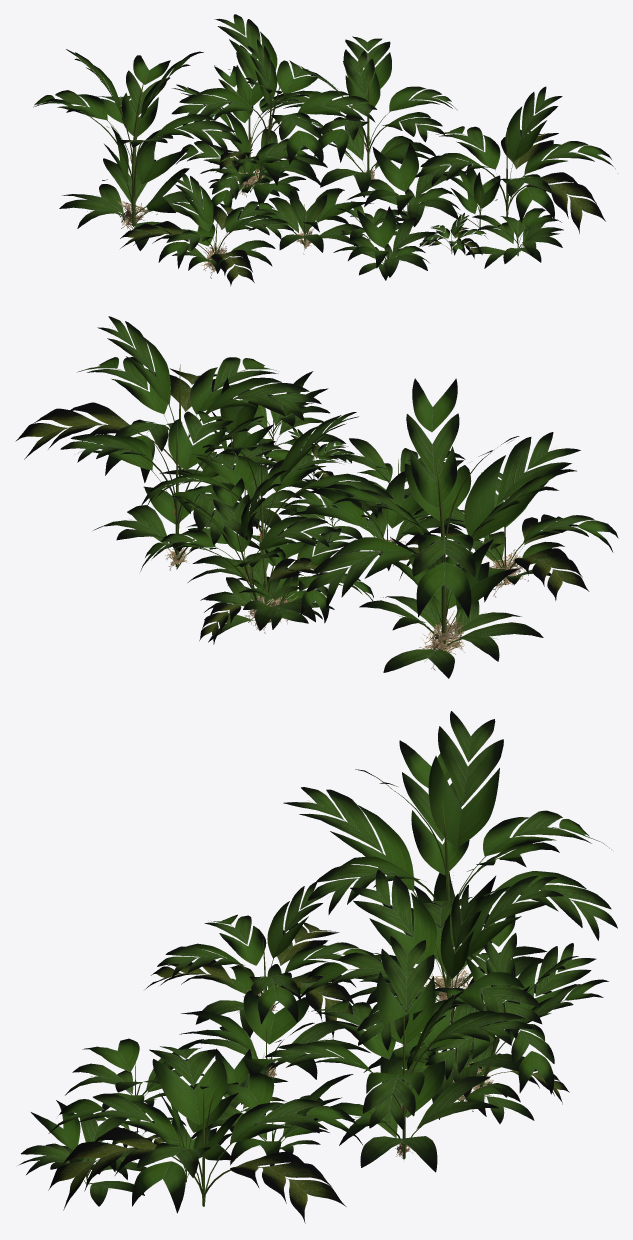
The model's file is grass.glb.
3 views of the same model, one above another, from view 1: azimuth 30°, elevation 25°; view 2: azimuth 150°, elevation 25°; view 3: azimuth 270°, elevation 25° (orthographic). The views are drawn at different scales.
Visible parts, largest first — view 1: TasiPalm_cluster_bed_02_LOD0.001, TasiPalm_cluster_01_LOD0.001, TasiPalm_high_01_LOD0.001, TasiPalm_high_02_LOD0.001, TasiPalm_small_01_LOD0.001, TasiPalm_small_02_LOD0.001; view 2: TasiPalm_high_01_LOD0.001, TasiPalm_cluster_bed_02_LOD0.001, TasiPalm_cluster_01_LOD0.001, TasiPalm_high_02_LOD0.001, TasiPalm_small_01_LOD0.001, TasiPalm_small_02_LOD0.001; view 3: TasiPalm_cluster_bed_02_LOD0.001, TasiPalm_cluster_01_LOD0.001, TasiPalm_high_01_LOD0.001, TasiPalm_high_02_LOD0.001, TasiPalm_small_01_LOD0.001, TasiPalm_small_02_LOD0.001.
Part boxes in pixels (left/top/right/bottom): TasiPalm_cluster_bed_02_LOD0.001: left=333, top=86, right=615, bottom=280; TasiPalm_cluster_01_LOD0.001: left=171, top=14, right=376, bottom=214; TasiPalm_high_01_LOD0.001: left=33, top=49, right=241, bottom=250; TasiPalm_high_02_LOD0.001: left=258, top=36, right=457, bottom=197; TasiPalm_small_01_LOD0.001: left=120, top=171, right=293, bottom=286; TasiPalm_small_02_LOD0.001: left=241, top=188, right=373, bottom=254; TasiPalm_high_01_LOD0.001: left=306, top=378, right=580, bottom=678; TasiPalm_cluster_bed_02_LOD0.001: left=15, top=316, right=465, bottom=542; TasiPalm_cluster_01_LOD0.001: left=140, top=412, right=393, bottom=644; TasiPalm_high_02_LOD0.001: left=60, top=411, right=313, bottom=570; TasiPalm_small_01_LOD0.001: left=393, top=472, right=618, bottom=602; TasiPalm_small_02_LOD0.001: left=289, top=471, right=464, bottom=570; TasiPalm_cluster_bed_02_LOD0.001: left=18, top=1038, right=363, bottom=1223; TasiPalm_cluster_01_LOD0.001: left=298, top=869, right=608, bottom=1123; TasiPalm_high_01_LOD0.001: left=283, top=711, right=617, bottom=1008; TasiPalm_high_02_LOD0.001: left=265, top=936, right=534, bottom=1172; TasiPalm_small_01_LOD0.001: left=145, top=882, right=381, bottom=1039; TasiPalm_small_02_LOD0.001: left=179, top=990, right=370, bottom=1104.
Size of the model in its own units: 5.1 by 1.94 by 3.97.
Materials: 1 (1 with a texture image).
